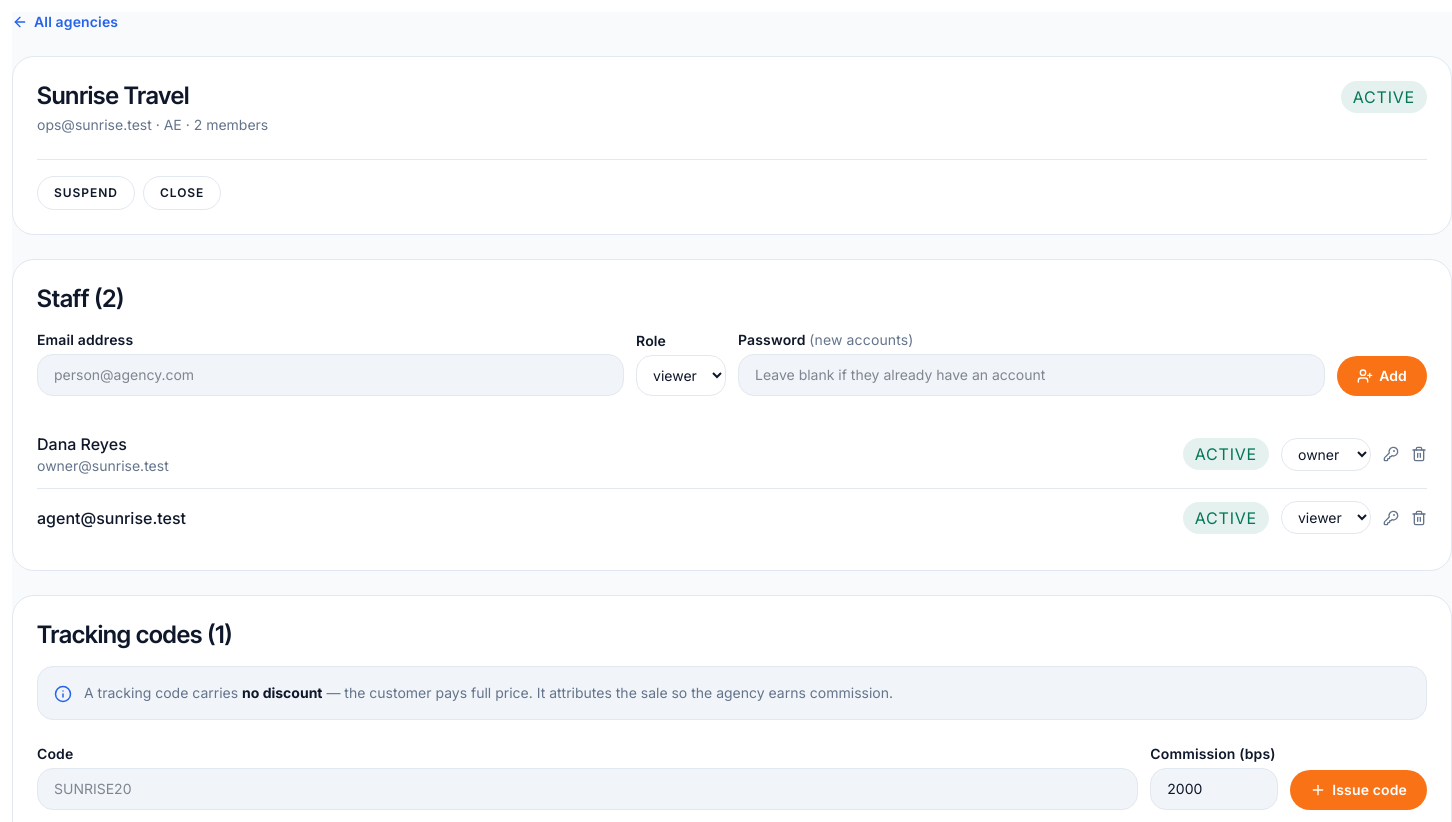
it: lifecycle is an action, not a field edit › shows the server's refusal verbatim
The width and height of the screenshot is (1452, 822).
Expected: the 1st heading "Sunrise Travel" is shown, [37,81,189,110]
Click the 2nd button named "close".
click(182, 193)  # box [143,176,221,210]
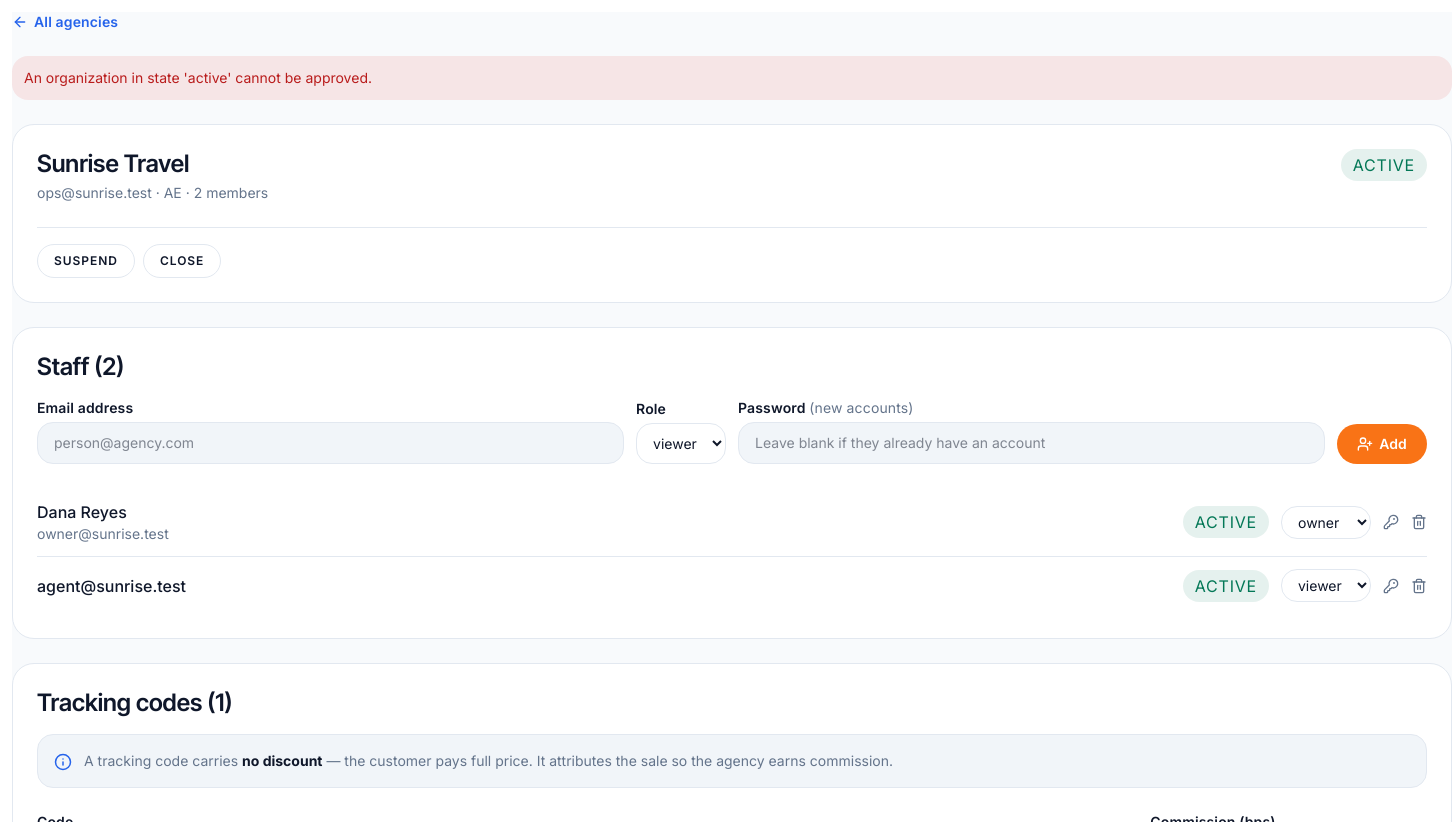
Expected: the text "An organization in state 'active' cannot be approved." is shown, [24,69,372,86]
